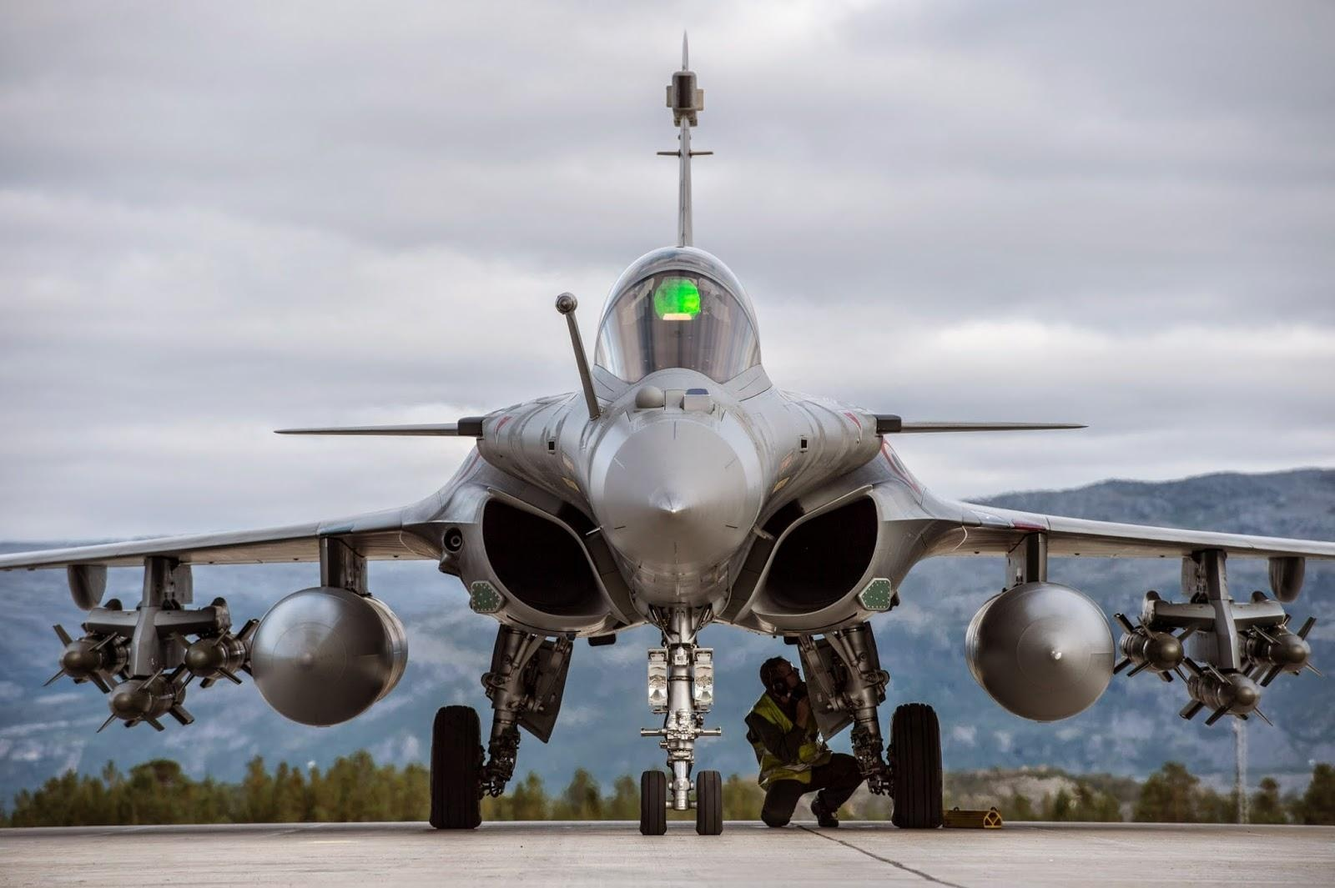aircraft: (3, 25, 1332, 833)
